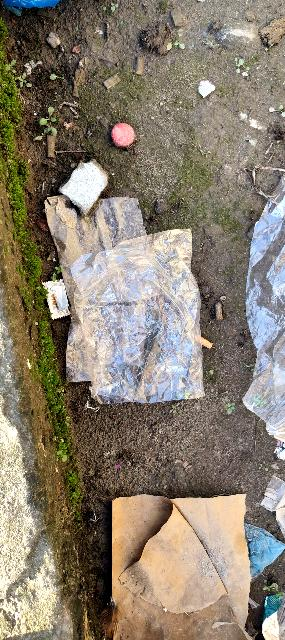polythene: (65, 213, 215, 420)
